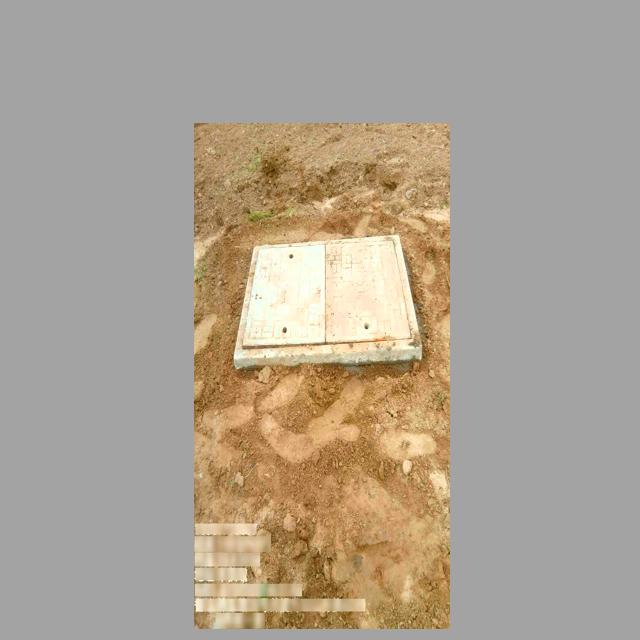good: (234, 234, 422, 354)
